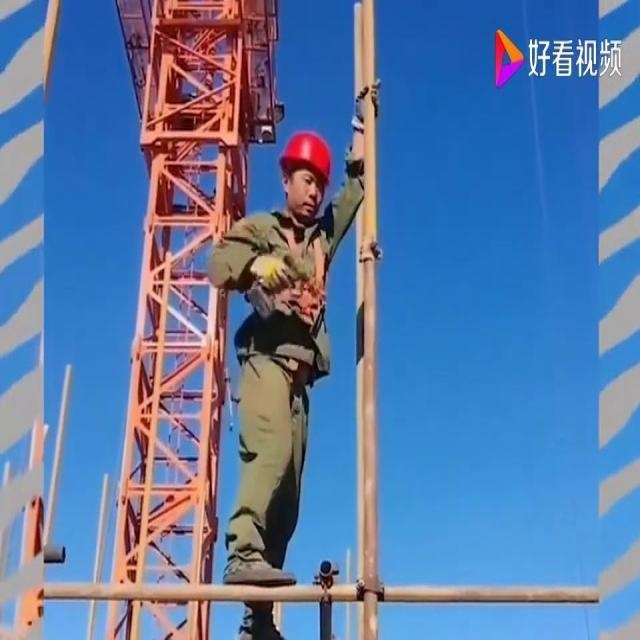Arnes_seguridad: (259, 207, 332, 339)
